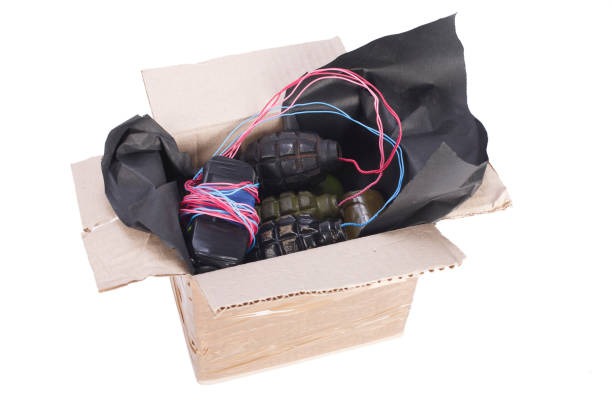e1: (242, 131, 347, 189)
